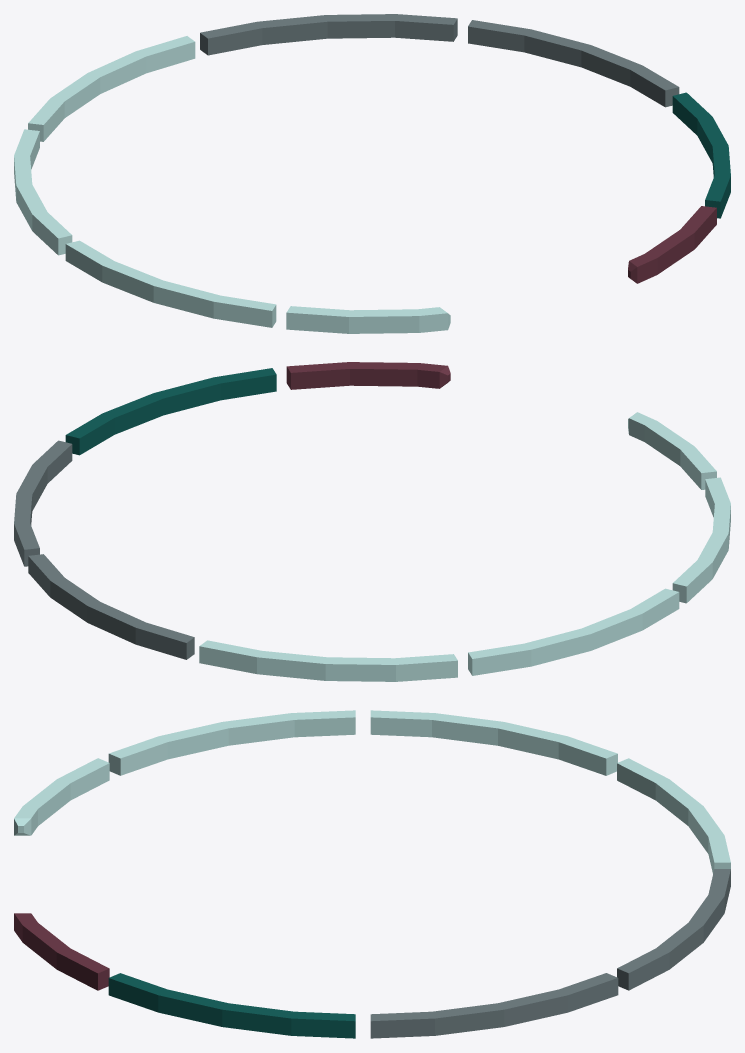
File: Innerring.6cbae6af.glb
The picture shows the model from 3 angles, top to bottom: view 1: azimuth 30°, elevation 25°; view 2: azimuth 150°, elevation 25°; view 3: azimuth 270°, elevation 25°; orthographic projection. The views are drawn at different scales.
Visible parts, largest first — view 1: Inside, Inside 4-5, Inside 6, Inside 7; view 2: Inside, Inside 4-5, Inside 6, Inside 7; view 3: Inside, Inside 4-5, Inside 6, Inside 7.
Boxes of the visible parts, x1,y1,x2,y2 form: Inside: [14, 36, 450, 333]; Inside 4-5: [200, 14, 679, 107]; Inside 6: [672, 92, 730, 218]; Inside 7: [628, 206, 716, 283]; Inside: [199, 412, 730, 681]; Inside 4-5: [14, 440, 194, 659]; Inside 6: [65, 368, 276, 455]; Inside 7: [286, 362, 450, 389]; Inside: [14, 710, 730, 873]; Inside 4-5: [370, 869, 730, 1038]; Inside 6: [108, 973, 355, 1038]; Inside 7: [14, 913, 109, 990].
Bounding box in the file's own units: 3.38 × 0.088 × 3.29.
